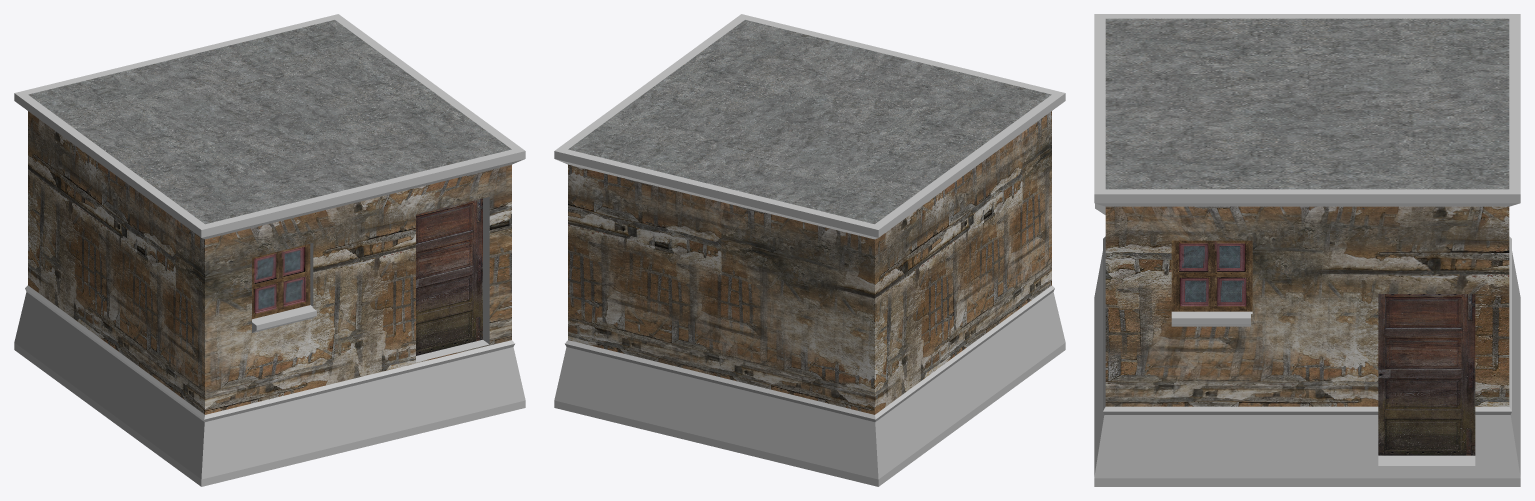
The model's file is Building_Base_06.fbx.
The picture shows the model from 3 angles, left to right: view 1: azimuth 30°, elevation 25°; view 2: azimuth 150°, elevation 25°; view 3: azimuth 270°, elevation 25°; orthographic projection. The views are drawn at different scales.
Parts seen in each view (by area): view 1: Building_Base_06; view 2: Building_Base_06; view 3: Building_Base_06.
Boxes of the visible parts, bbox=[...] form: Building_Base_06: bbox=[14, 14, 525, 486]; Building_Base_06: bbox=[554, 14, 1065, 486]; Building_Base_06: bbox=[1094, 14, 1520, 486].
Size of the model in its own units: 528 by 400 by 528.
